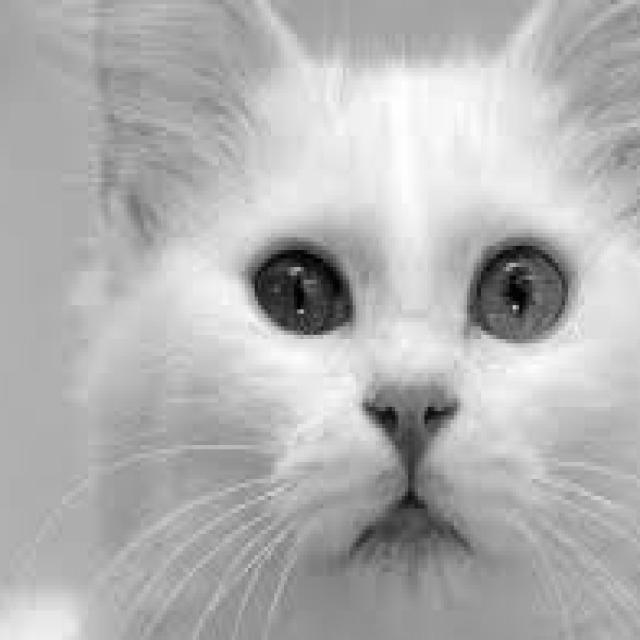van: (32, 0, 640, 602)
